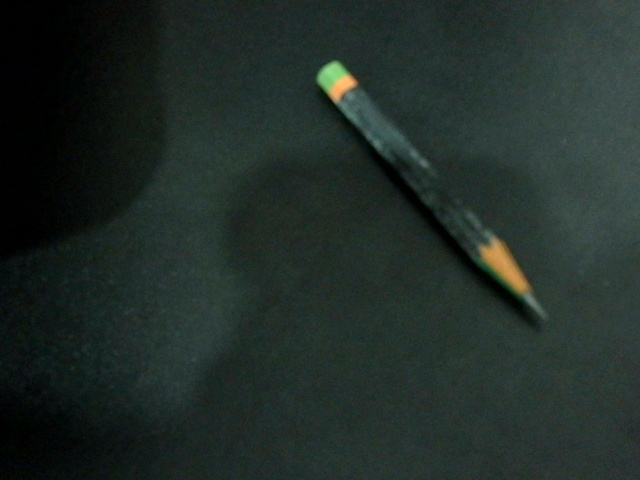pencil: (302, 51, 555, 354)
